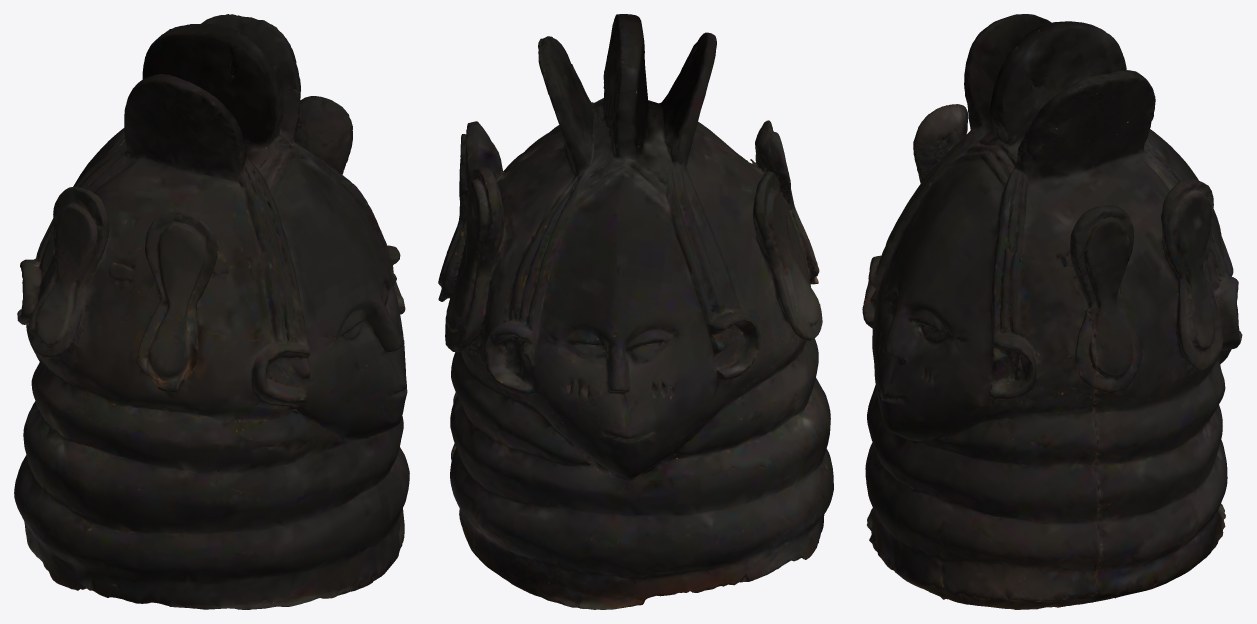
The model's file is preview.glb.
3 views of the same model, side by side, from view 1: azimuth 30°, elevation 25°; view 2: azimuth 150°, elevation 25°; view 3: azimuth 270°, elevation 25° (orthographic).
Visible parts, largest first — view 1: Object_2; view 2: Object_2; view 3: Object_2.
Part boxes in pixels (x1,y1,x2,y2): Object_2: (14, 14, 409, 609); Object_2: (438, 14, 833, 609); Object_2: (862, 14, 1242, 609).
Size of the model in its own units: 263 by 374 by 249.
Materials: 1 (1 with a texture image).
